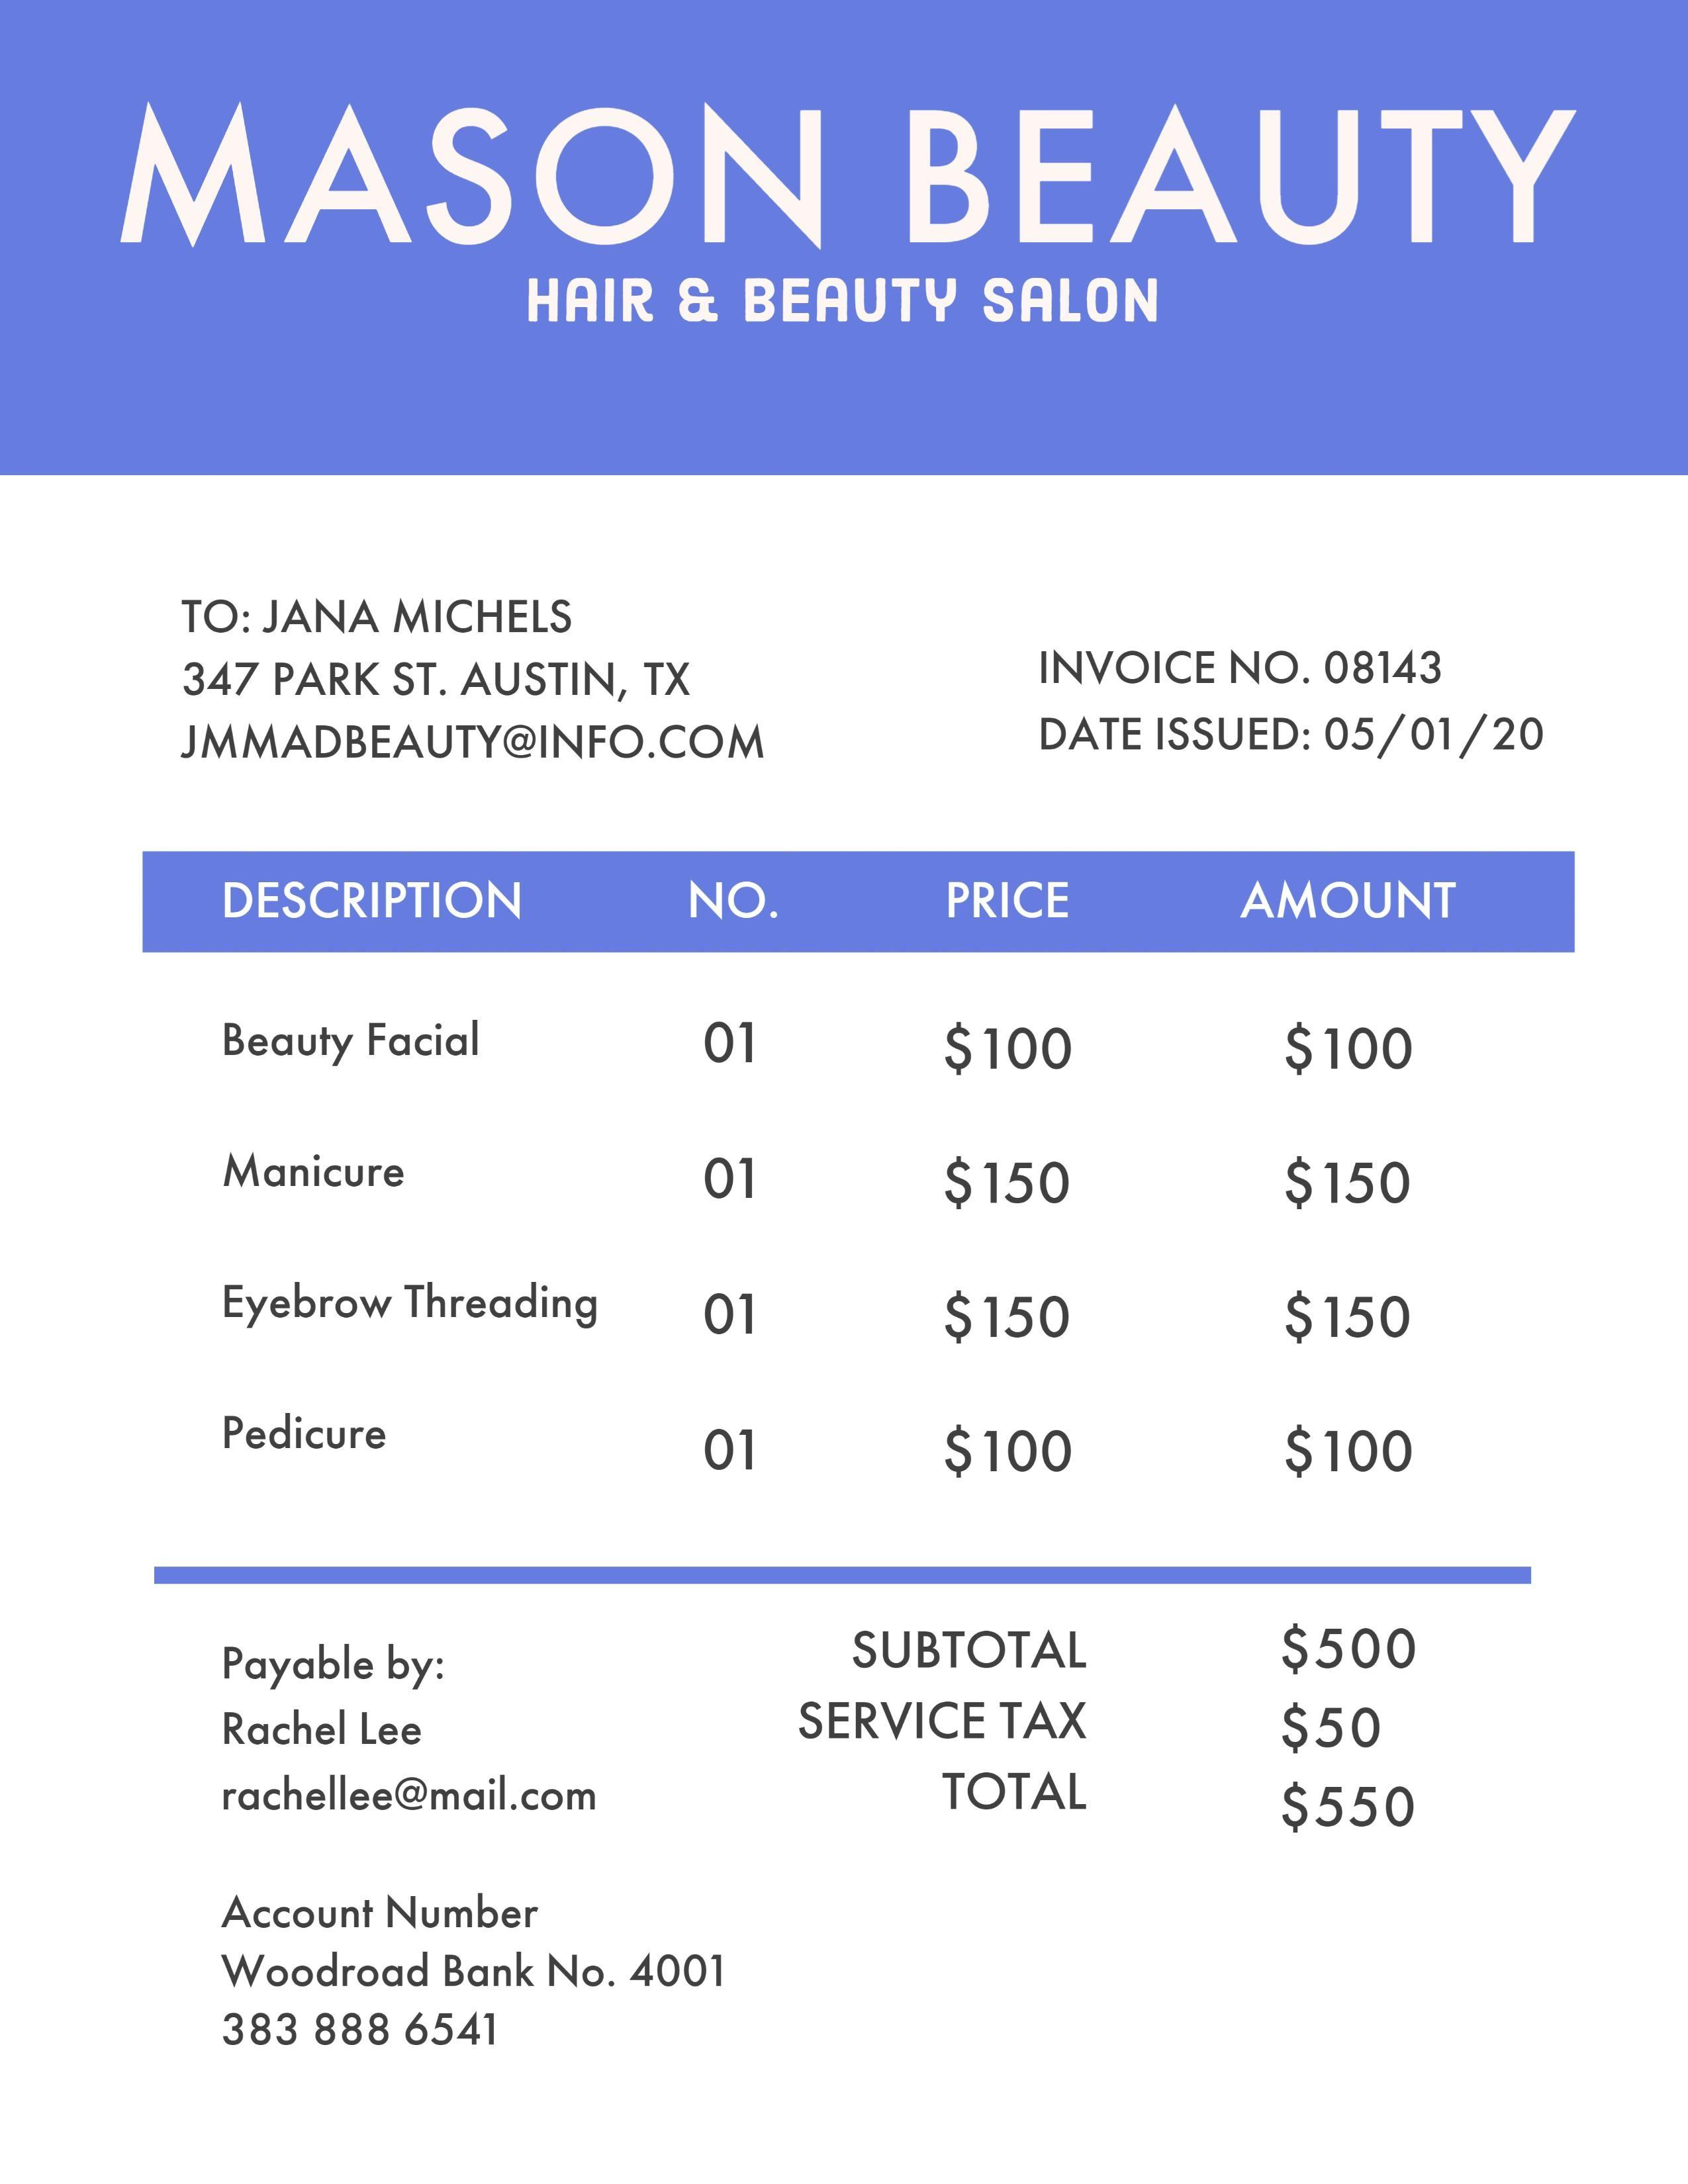ROI: (148, 848, 1571, 1498), (187, 1614, 1468, 1838), (101, 82, 1601, 263), (162, 561, 791, 805), (191, 1873, 760, 2101), (1000, 621, 1636, 820)
